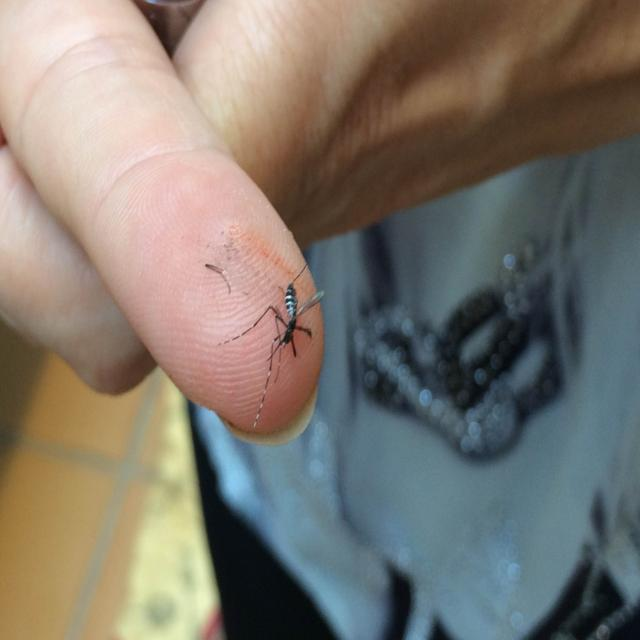albopictus: (202, 256, 328, 418)
